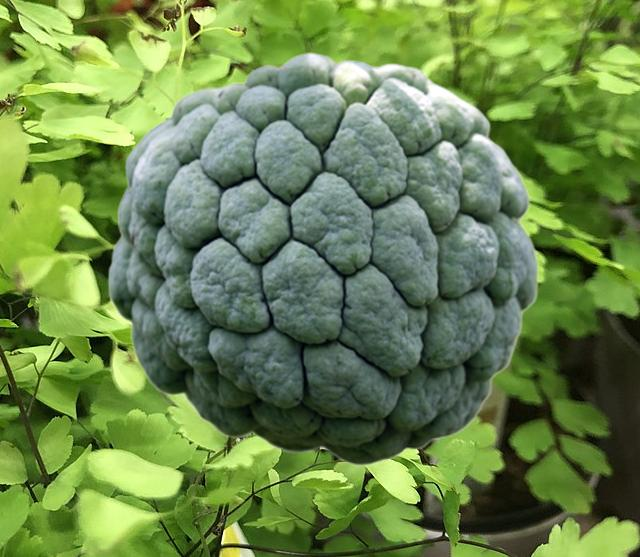atis: (107, 51, 538, 466)
